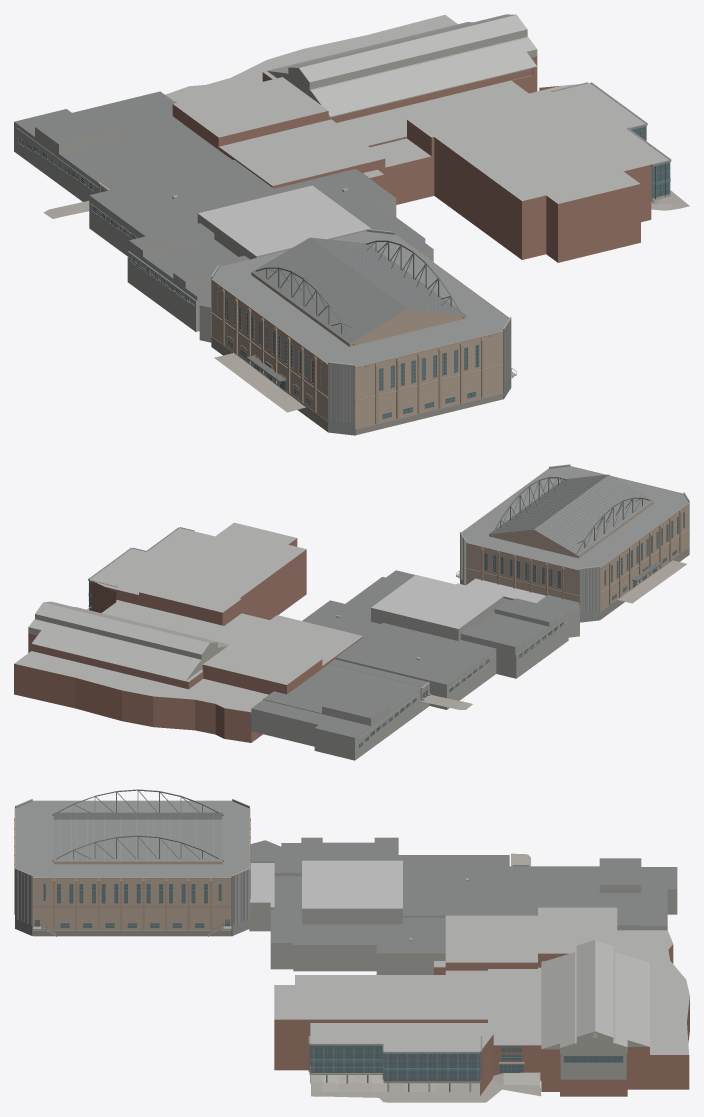
Rendered from site.glb.
3 views of the same model, one above another, from view 1: azimuth 30°, elevation 25°; view 2: azimuth 150°, elevation 25°; view 3: azimuth 270°, elevation 25° (orthographic). The views are drawn at different scales.
Visible parts, largest first — view 1: roof-af9a4442, context-b0020, roof-a5ff3d5a, athletic-approaches; view 2: roof-af9a4442, roof-a5ff3d5a, context-b0020, athletic-approaches; view 3: roof-af9a4442, roof-a5ff3d5a, context-b0020, athletic-approaches.
Boxes of the visible parts, x1,y1,x2,y2 form: roof-af9a4442: (165,14,671,262); context-b0020: (211,229,516,435); roof-a5ff3d5a: (14,91,433,342); athletic-approaches: (43,190,689,412); roof-af9a4442: (14,522,363,742); roof-a5ff3d5a: (251,570,579,760); context-b0020: (456,464,689,622); athletic-approaches: (87,560,686,709); roof-af9a4442: (274,907,689,1096); roof-a5ff3d5a: (249,837,677,974); context-b0020: (14,789,250,936); athletic-approaches: (311,853,541,1102).
Size of the model in its own units: 167 by 35.51 by 205.
